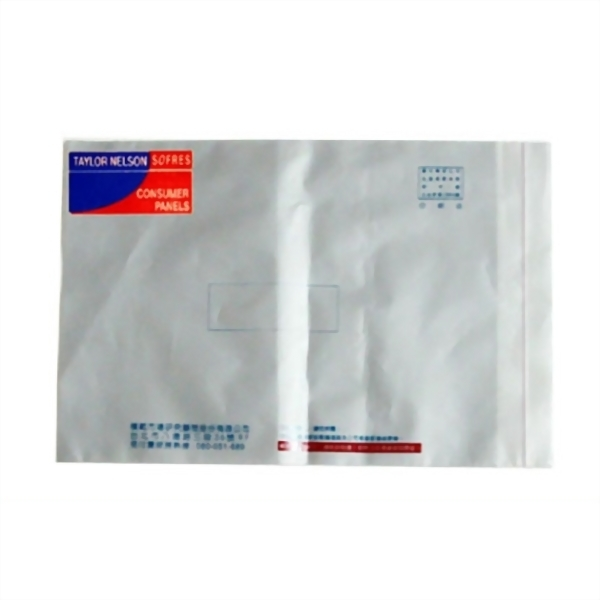塑料袋: (56, 140, 551, 467)
